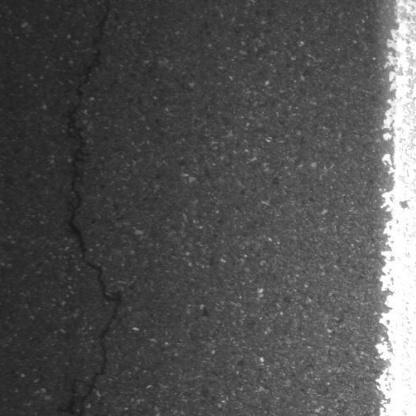Cracks: (62, 0, 126, 416)
